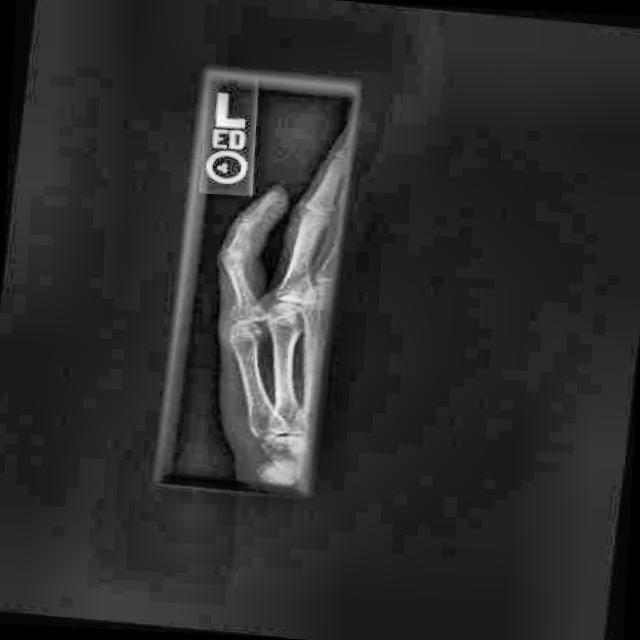fingers positive: (226, 292, 266, 351), (237, 210, 267, 241)
